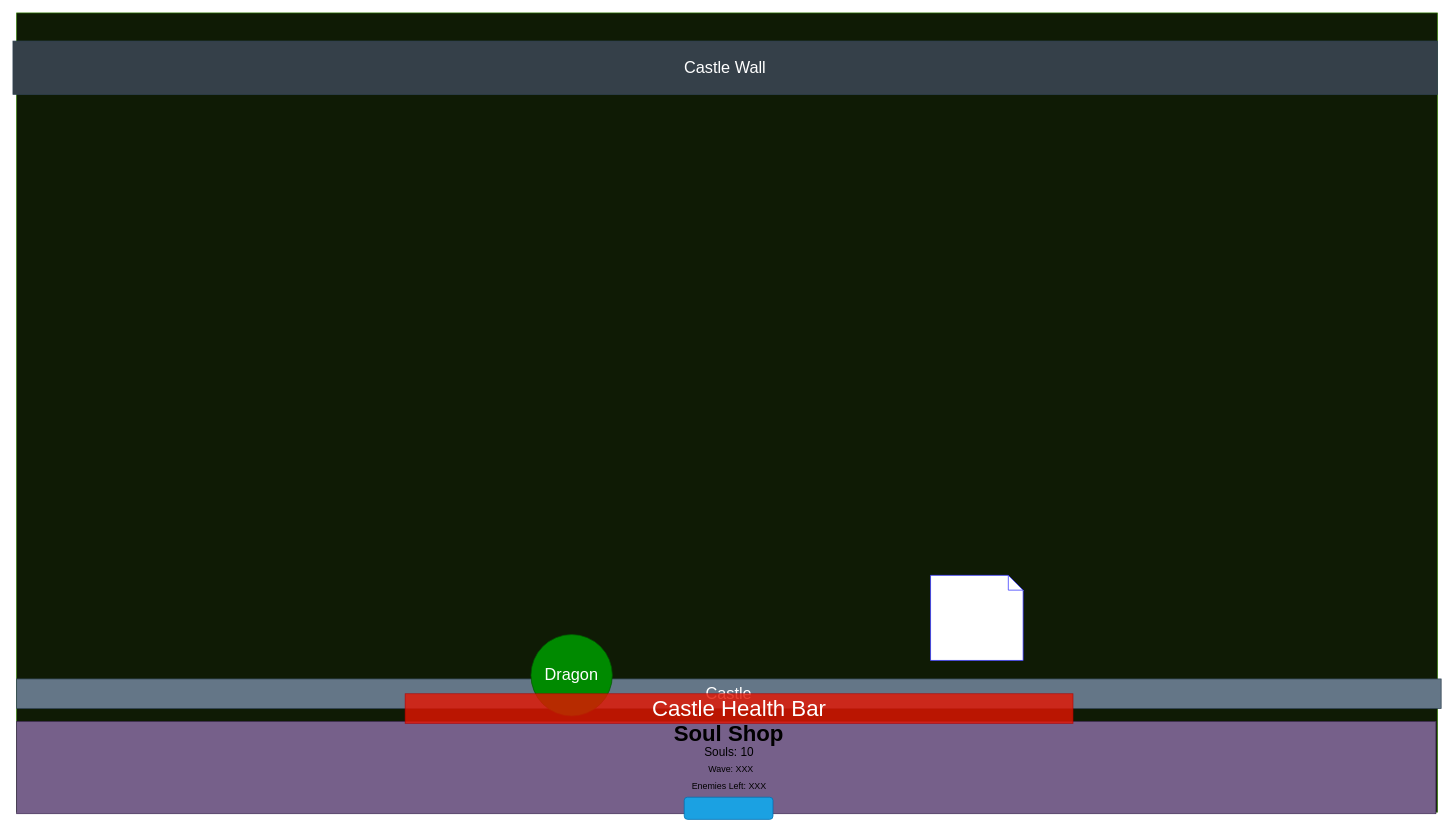
The diagram is 1454 pixels wide and 833 high, and some of its shapes have lost their labels. Here are the shapes that lost their labels. From the top down, the centre of each, then its label:
point 976,617: Health bar above soul shop, above castle
point 728,807: Show Placeable Info
